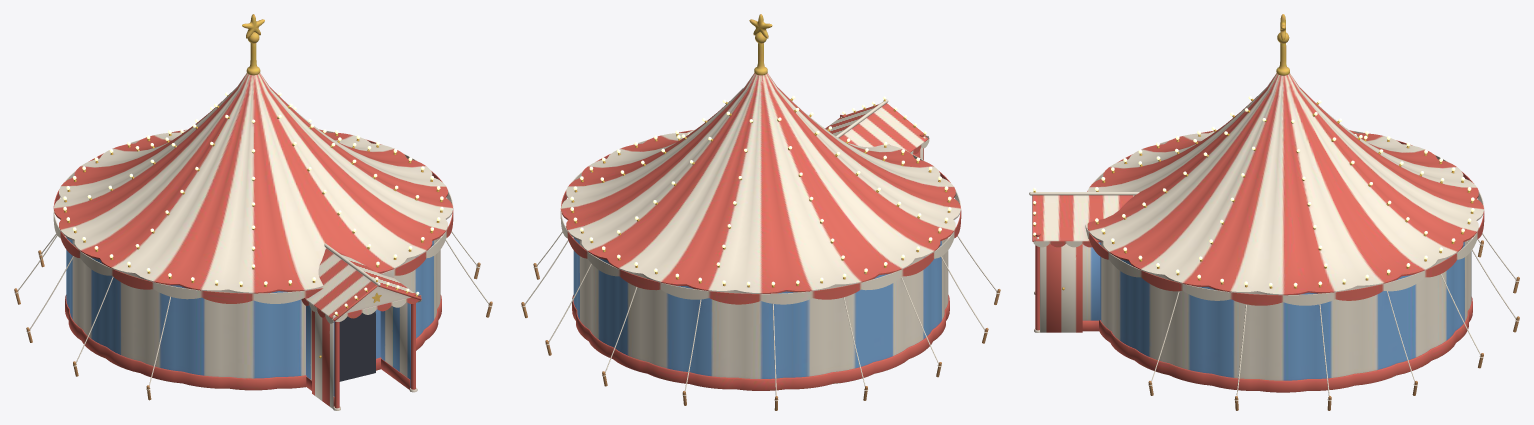
The model's file is circus-tent.glb.
3 renders of one model, left to right at view 1: azimuth 30°, elevation 25°; view 2: azimuth 150°, elevation 25°; view 3: azimuth 270°, elevation 25°, orthographic.
Visible parts, largest first — view 1: circus-tent_body, circus-tent_flap_l, circus-tent_bulbs; view 2: circus-tent_body, circus-tent_bulbs; view 3: circus-tent_body, circus-tent_flap_r, circus-tent_bulbs.
Part boxes in pixels (x1=…): circus-tent_body: x1=14, y1=14, x2=492, y2=410; circus-tent_flap_l: x1=312, y1=310, x2=333, y2=408; circus-tent_bulbs: x1=63, y1=92, x2=443, y2=314; circus-tent_body: x1=521, y1=14, x2=1000, y2=410; circus-tent_bulbs: x1=570, y1=95, x2=951, y2=285; circus-tent_body: x1=1029, y1=14, x2=1519, y2=410; circus-tent_flap_r: x1=1040, y1=244, x2=1082, y2=332; circus-tent_bulbs: x1=1033, y1=96, x2=1474, y2=286.
Bounding box in the file's own units: 10.13 × 7.05 × 10.51.
Materials: 4 (3 with a texture image).
